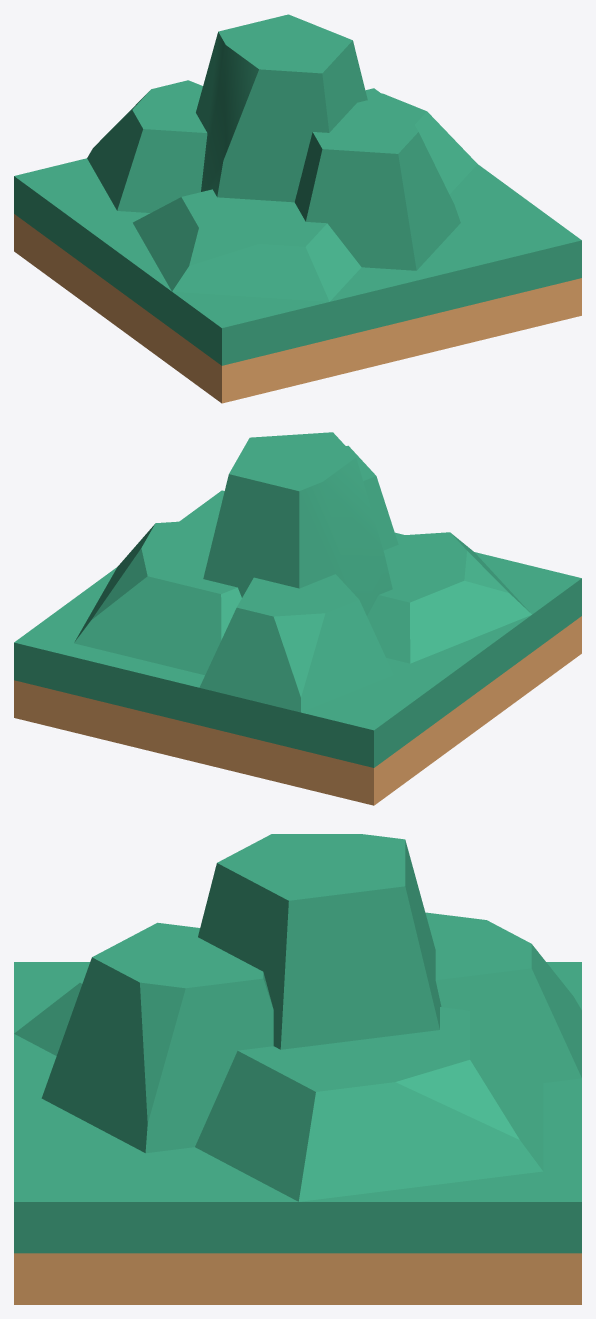
File: tile_hill.fbx
3 renders of one model, top to bottom at view 1: azimuth 30°, elevation 25°; view 2: azimuth 150°, elevation 25°; view 3: azimuth 270°, elevation 25°, orthographic. The views are drawn at different scales.
Visible parts, largest first — view 1: rocks, tile_hill; view 2: rocks, tile_hill; view 3: rocks, tile_hill.
Part boxes in pixels (x1=…): rocks: x1=87, y1=14, x2=477, y2=301; tile_hill: x1=14, y1=88, x2=581, y2=403; rocks: x1=74, y1=432, x2=531, y2=712; tile_hill: x1=14, y1=490, x2=581, y2=805; rocks: x1=14, y1=834, x2=581, y2=1201; tile_hill: x1=14, y1=962, x2=581, y2=1304.
Size of the model in its own units: 10 by 6.19 by 10.
